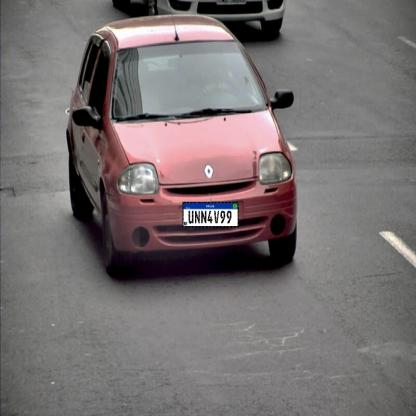PlacaM: (183, 202, 238, 227)
